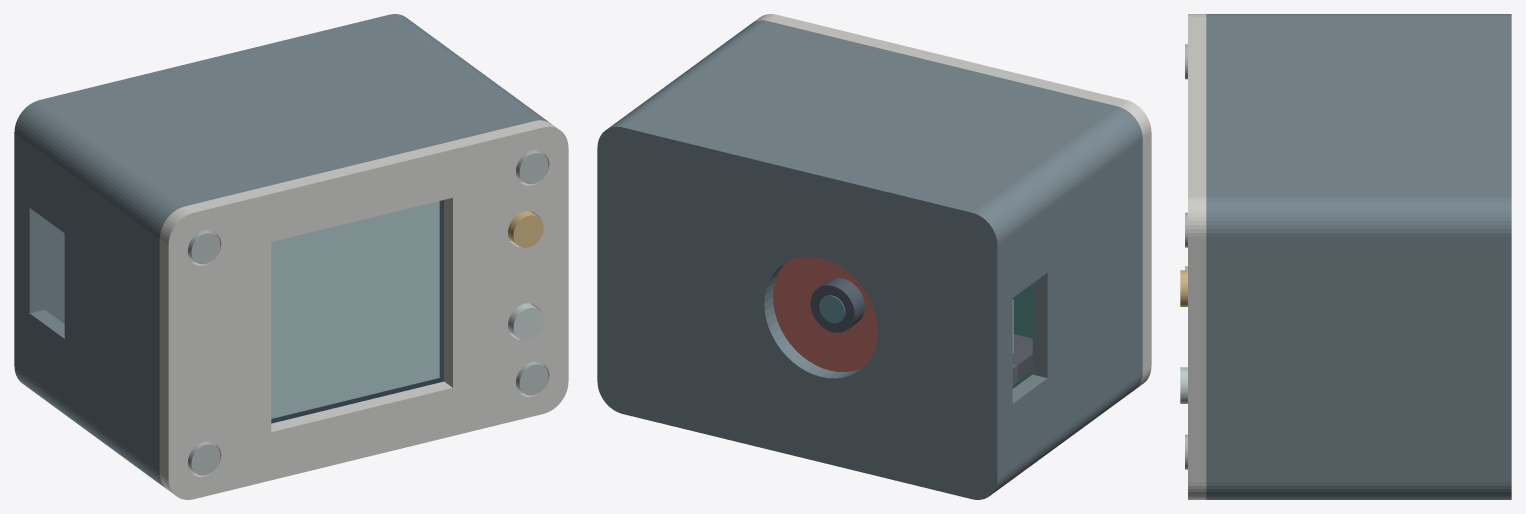
Rendered from assembly.glb.
The picture shows the model from 3 angles, left to right: view 1: azimuth 30°, elevation 25°; view 2: azimuth 150°, elevation 25°; view 3: azimuth 270°, elevation 25°; orthographic projection. The views are drawn at different scales.
Parts seen in each view (by area): view 1: base, lid, lcd_active, case_screw_heads, lcd_glass, button_1, button_2; view 2: base, camera_board, lid, camera_lens, carrier, pico_sockets; view 3: base, lid.
Part boxes in pixels (x1,y1,x2,y2): base: (14,14,549,488); lid: (159,120,568,499); lcd_active: (271,201,439,418); case_screw_heads: (187,149,548,475); lcd_glass: (271,200,443,423); button_1: (508,303,543,340); button_2: (508,210,543,247); base: (597,20,1142,499); camera_board: (773,256,877,371); lid: (753,14,1151,388); camera_lens: (810,277,864,332); carrier: (1012,284,1032,388); pico_sockets: (1012,334,1032,381); base: (1206,14,1511,499); lid: (1188,14,1206,499).
Size of the model in its own units: 63.4 by 43.4 by 43.3.
